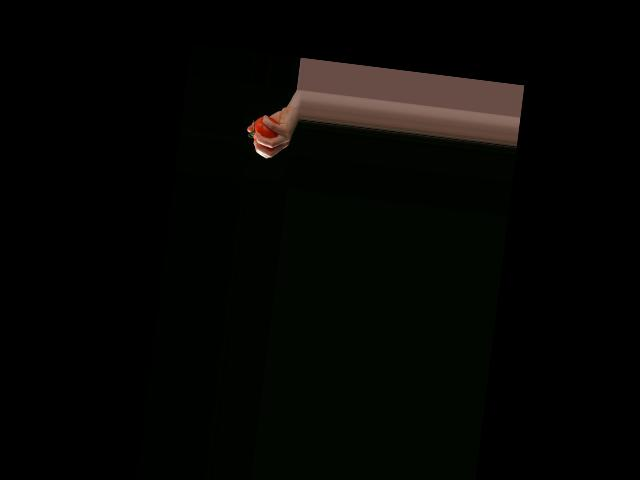tomato: (253, 115, 280, 142)
